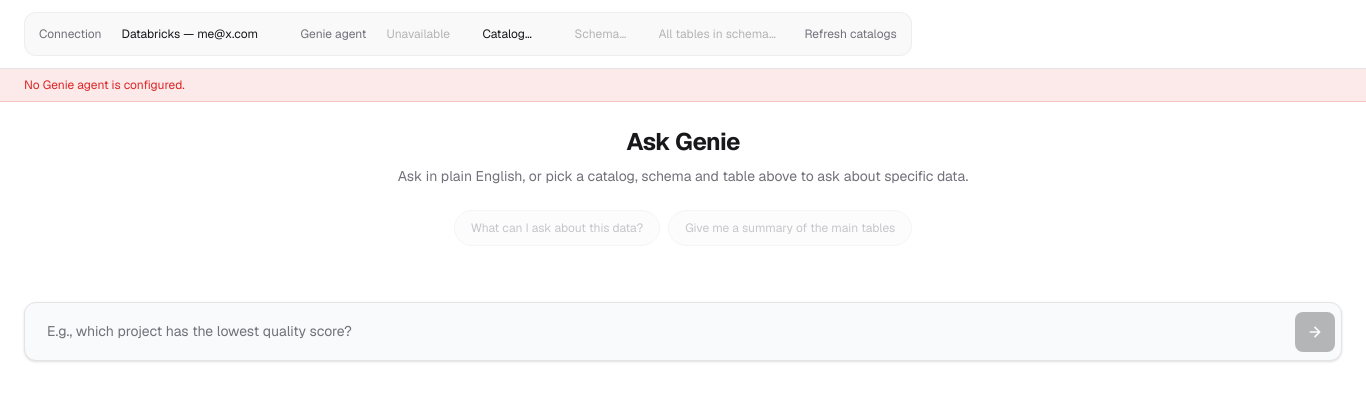
Test case: GenieChatView › explains when no Genie agent is available but still allows picking data
Expected: the message shows "No Genie agent is configured", [24,77,185,93]
Select "workspace" in the dropdown named "Catalog" at (512, 34), box [470,19,554,49]
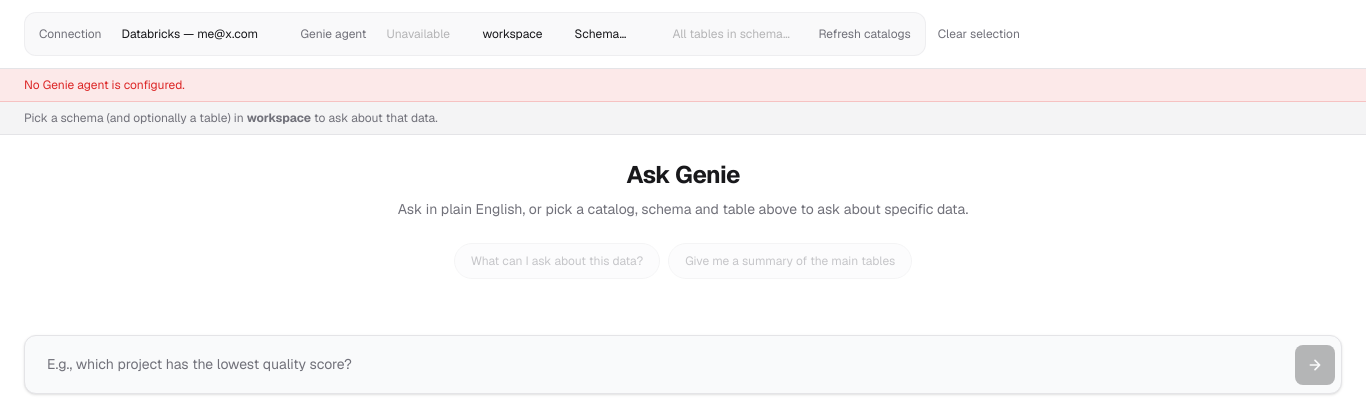
Select "default" in the dropdown named "Schema" at (608, 34), box [562,19,652,49]
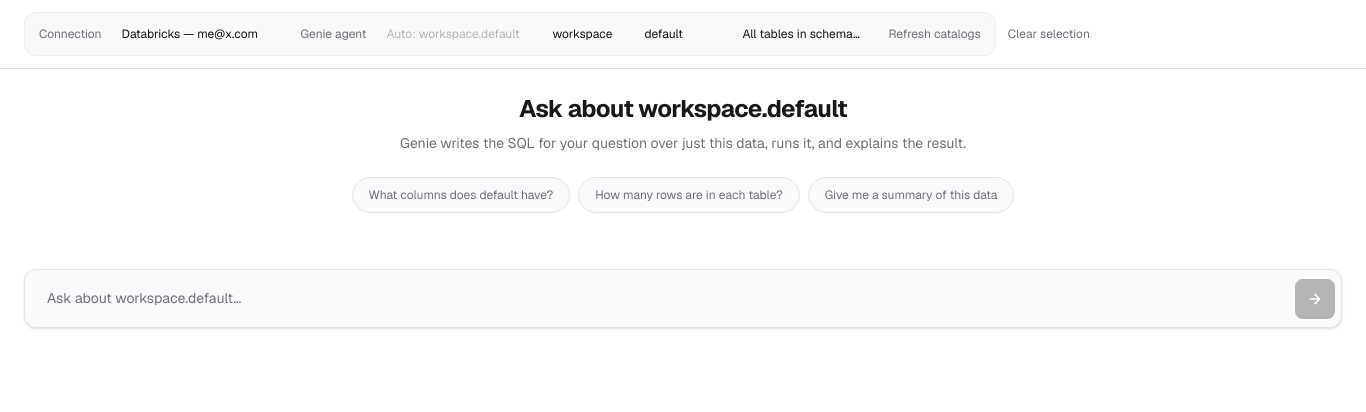
Expected: the message "No Genie agent is configured." is gone
